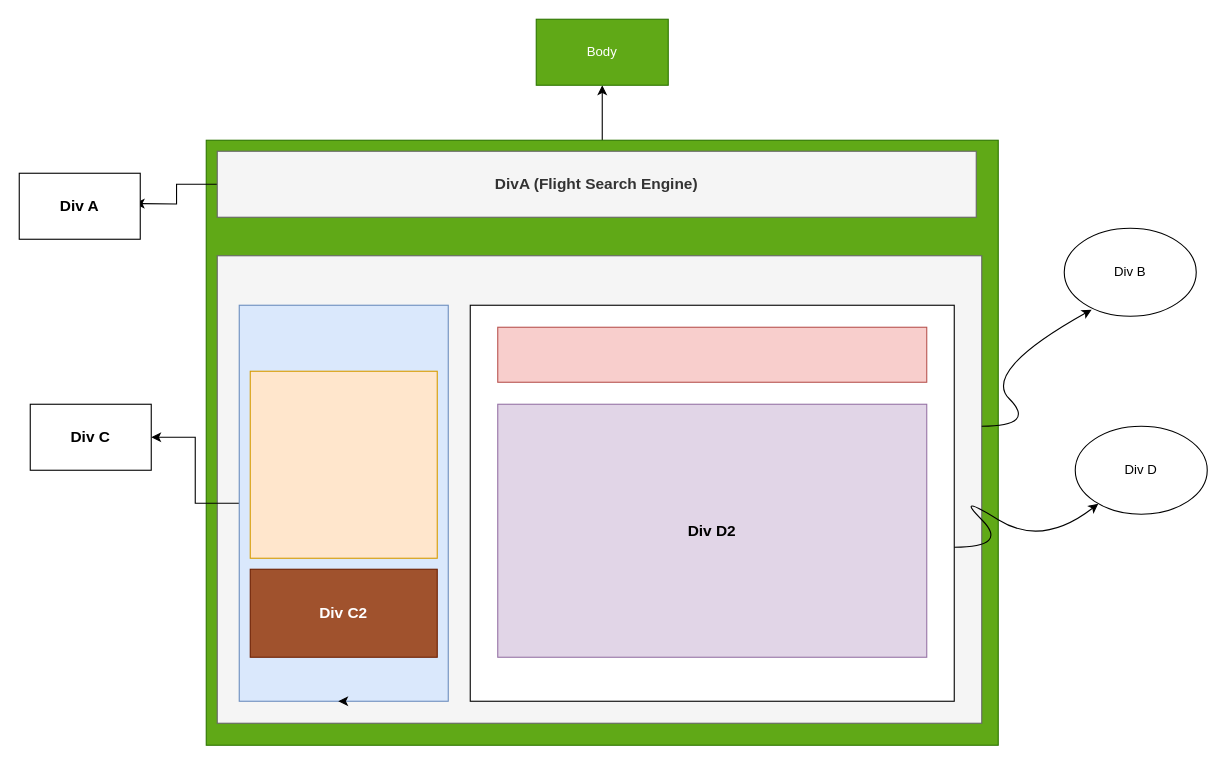
The diagram is 1227 pixels wide and 765 high, and some of its shapes have lost their labels. The centre of each missing label's shape, as x and y in pixels:
Div C1: the point at 343,464
Div D1: the point at 712,354
